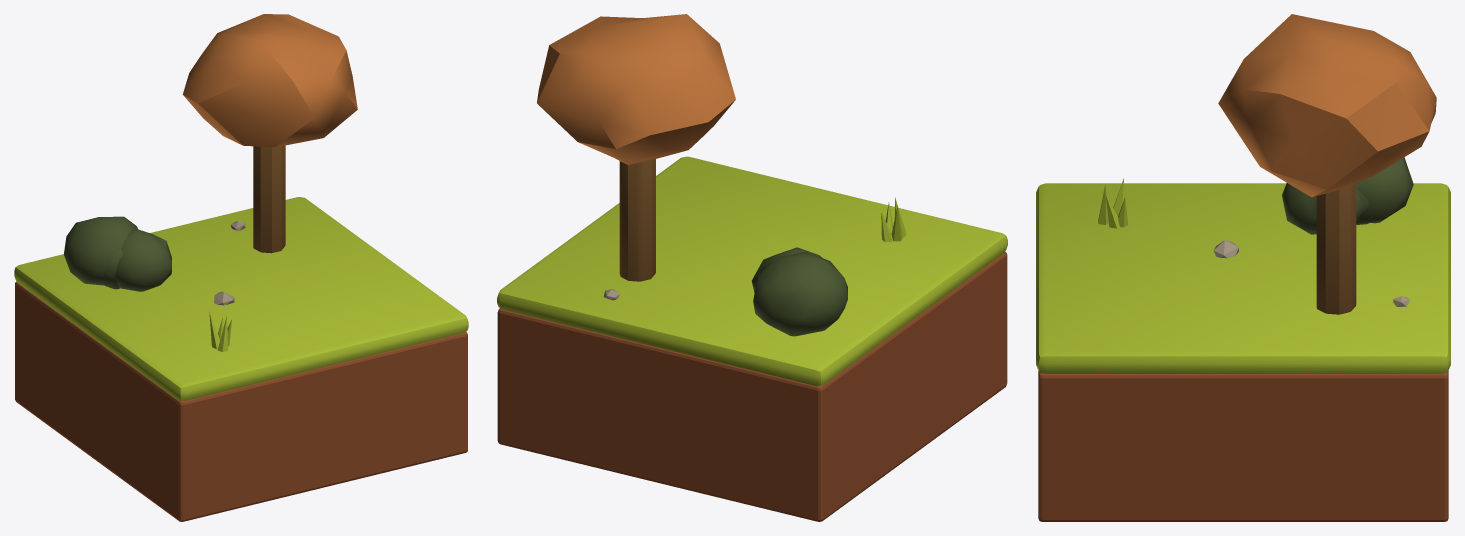
The model's file is tile_grove_autumn.glb.
3 views of the same model, side by side, from view 1: azimuth 30°, elevation 25°; view 2: azimuth 150°, elevation 25°; view 3: azimuth 270°, elevation 25° (orthographic). The views are drawn at different scales.
Visible parts, largest first — view 1: tile_grove_autumn_body, tile_grove_autumn_cap, ga_leaf, ga_trunk, tile_grove_autumn_b_lobe1, tile_grove_autumn_b_lobe2; view 2: tile_grove_autumn_body, tile_grove_autumn_cap, ga_leaf, tile_grove_autumn_b_lobe1, ga_trunk; view 3: tile_grove_autumn_cap, tile_grove_autumn_body, ga_leaf, ga_trunk, tile_grove_autumn_b_lobe1, tile_grove_autumn_b_lobe2.
Part boxes in pixels (<box>): tile_grove_autumn_body: <box>15,281,467,521</box>; tile_grove_autumn_cap: <box>14,197,468,400</box>; ga_leaf: <box>183,14,357,147</box>; ga_trunk: <box>253,145,285,253</box>; tile_grove_autumn_b_lobe1: <box>63,216,137,285</box>; tile_grove_autumn_b_lobe2: <box>115,228,171,291</box>; tile_grove_autumn_body: <box>497,252,1007,521</box>; tile_grove_autumn_cap: <box>497,156,1007,385</box>; ga_leaf: <box>537,14,735,165</box>; tile_grove_autumn_b_lobe1: <box>753,251,847,336</box>; ga_trunk: <box>619,159,655,281</box>; tile_grove_autumn_cap: <box>1036,183,1450,373</box>; tile_grove_autumn_body: <box>1038,370,1448,521</box>; ga_leaf: <box>1218,14,1436,197</box>; ga_trunk: <box>1316,183,1356,314</box>; tile_grove_autumn_b_lobe1: <box>1356,157,1413,223</box>; tile_grove_autumn_b_lobe2: <box>1282,183,1363,234</box>.
Size of the model in its own units: 2.02 by 2.4 by 2.02.
